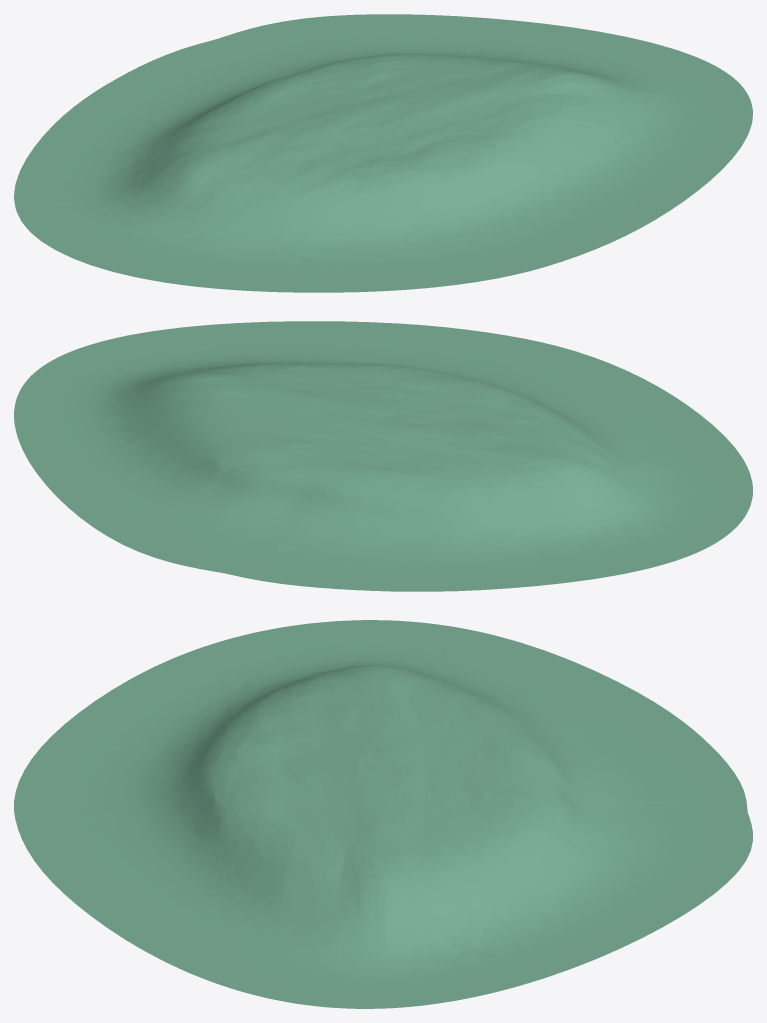
Rendered from island_circular_B_D.fbx.
3 renders of one model, top to bottom at view 1: azimuth 30°, elevation 25°; view 2: azimuth 150°, elevation 25°; view 3: azimuth 270°, elevation 25°, orthographic. The views are drawn at different scales.
Visible parts, largest first — view 1: island_circular_B_D; view 2: island_circular_B_D; view 3: island_circular_B_D.
Boxes of the visible parts, <box> form: island_circular_B_D: <box>14,14,752,292</box>; island_circular_B_D: <box>14,321,752,591</box>; island_circular_B_D: <box>14,620,752,1008</box>.
Bounding box in the file's own units: 30011 × 1634 × 24102.
